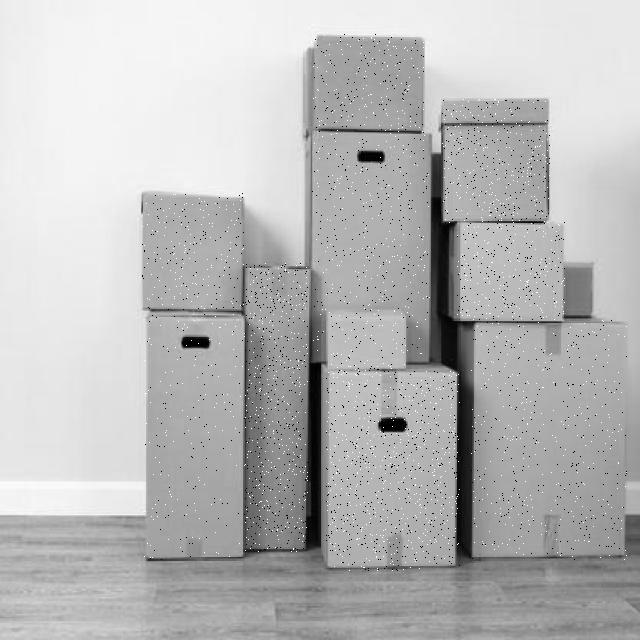BoxFace: (471, 320, 627, 560), (312, 132, 430, 363), (326, 371, 460, 571), (144, 314, 246, 560), (244, 263, 308, 552), (442, 99, 550, 224), (142, 193, 244, 310), (458, 220, 566, 322), (313, 34, 424, 132), (327, 314, 407, 372)
